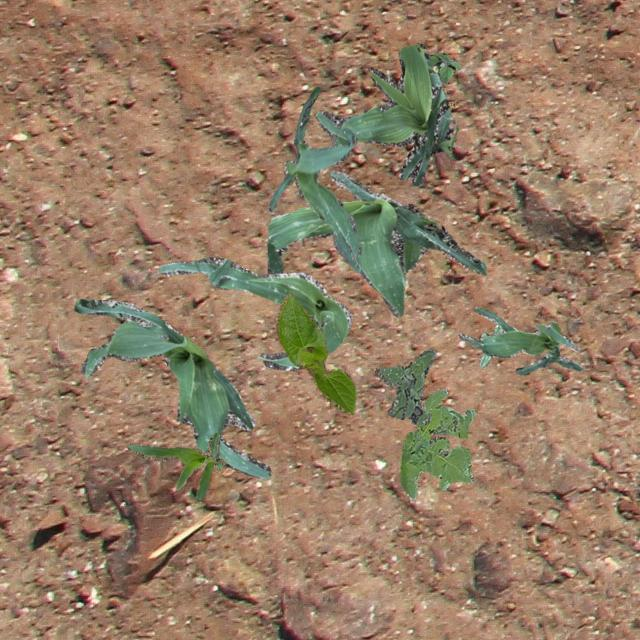crop: (74, 298, 270, 478), (266, 168, 484, 316), (152, 256, 352, 370), (314, 42, 454, 184), (268, 86, 360, 272), (274, 292, 356, 413), (458, 306, 582, 374), (126, 432, 224, 498)
weed: (398, 386, 474, 498), (374, 348, 434, 424), (478, 322, 502, 367), (428, 52, 460, 82)
